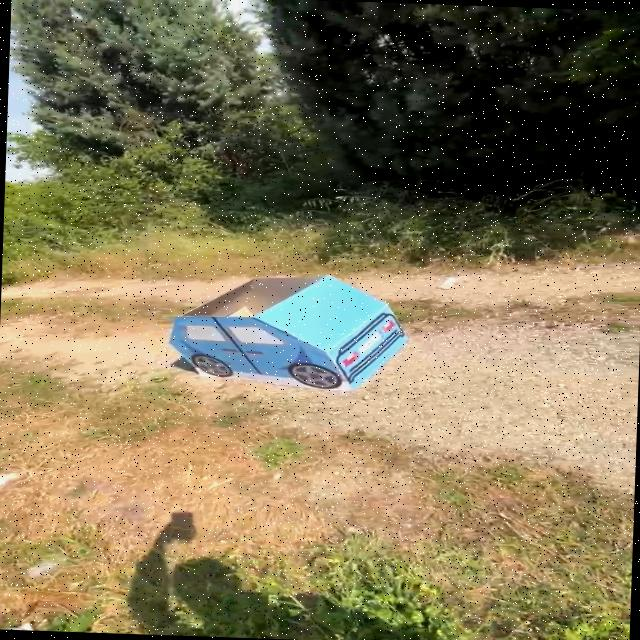blue_car: (152, 259, 423, 406)
